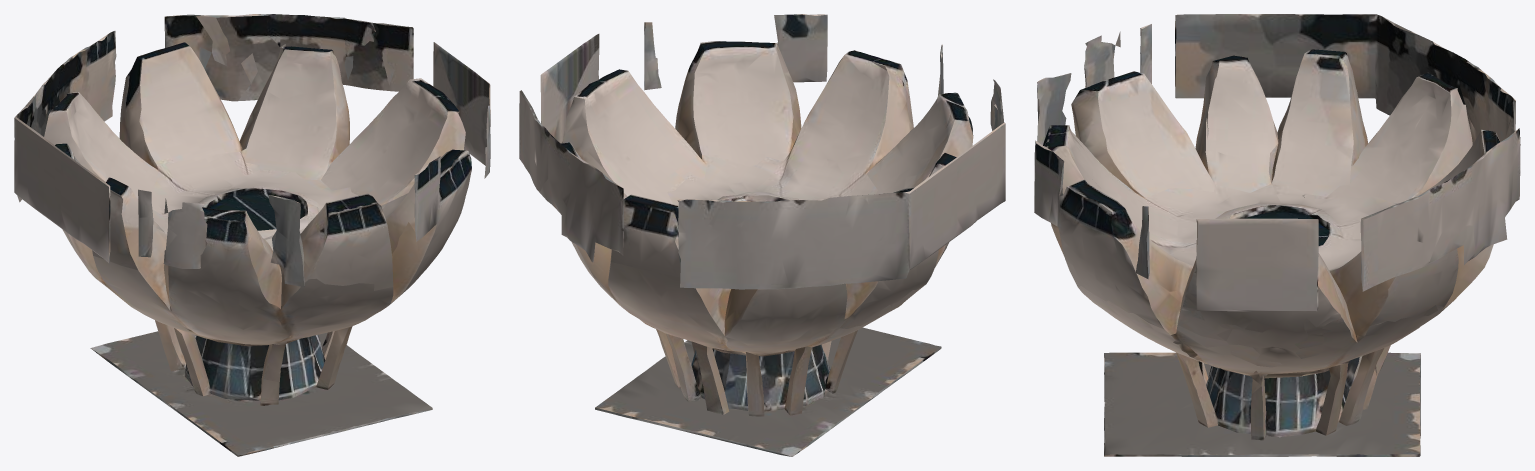
Rendered from artscience-museum.glb.
3 views of the same model, side by side, from view 1: azimuth 30°, elevation 25°; view 2: azimuth 150°, elevation 25°; view 3: azimuth 270°, elevation 25° (orthographic). The views are drawn at different scales.
Visible parts, largest first — view 1: logan-textured.obj; view 2: logan-textured.obj; view 3: logan-textured.obj.
Part boxes in pixels (x1,y1,x2,y2): logan-textured.obj: [14, 14, 490, 456]; logan-textured.obj: [519, 14, 1005, 456]; logan-textured.obj: [1034, 14, 1520, 456].
Bounding box in the file's own units: 1 × 0.6627 × 0.9995.
Materials: 1 (1 with a texture image).
